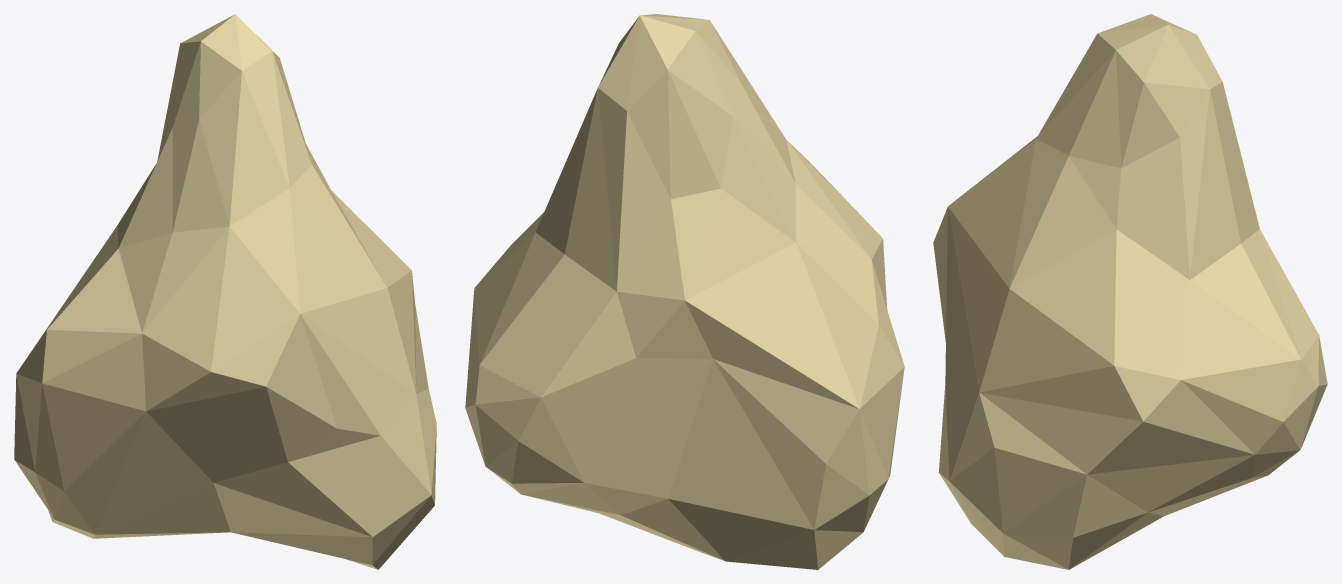
File: Rock (33).fbx
The picture shows the model from 3 angles, left to right: view 1: azimuth 30°, elevation 25°; view 2: azimuth 150°, elevation 25°; view 3: azimuth 270°, elevation 25°; orthographic projection. The views are drawn at different scales.
Parts seen in each view (by area): view 1: Asteroid32; view 2: Asteroid32; view 3: Asteroid32.
Boxes of the visible parts, bbox=[...] form: Asteroid32: bbox=[14, 14, 436, 569]; Asteroid32: bbox=[465, 14, 904, 569]; Asteroid32: bbox=[933, 14, 1327, 569].
Bounding box in the file's own units: 103 × 129 × 91.75.
